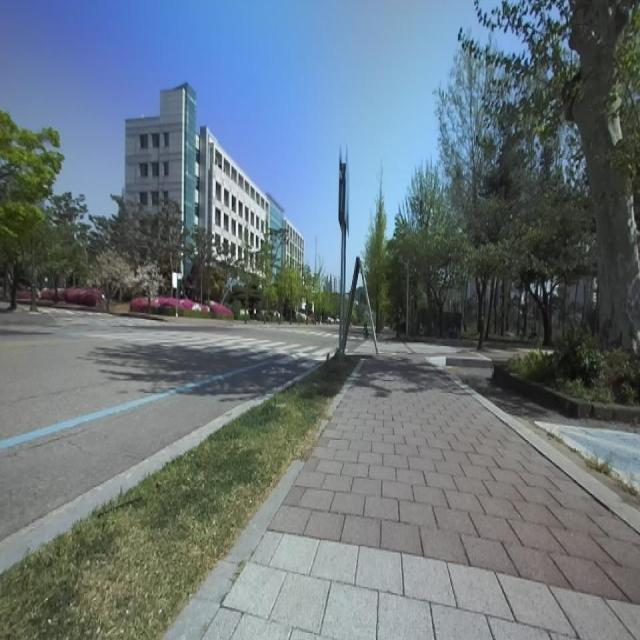sidewalk: (206, 360, 640, 639), (163, 359, 364, 640), (450, 375, 640, 534)
